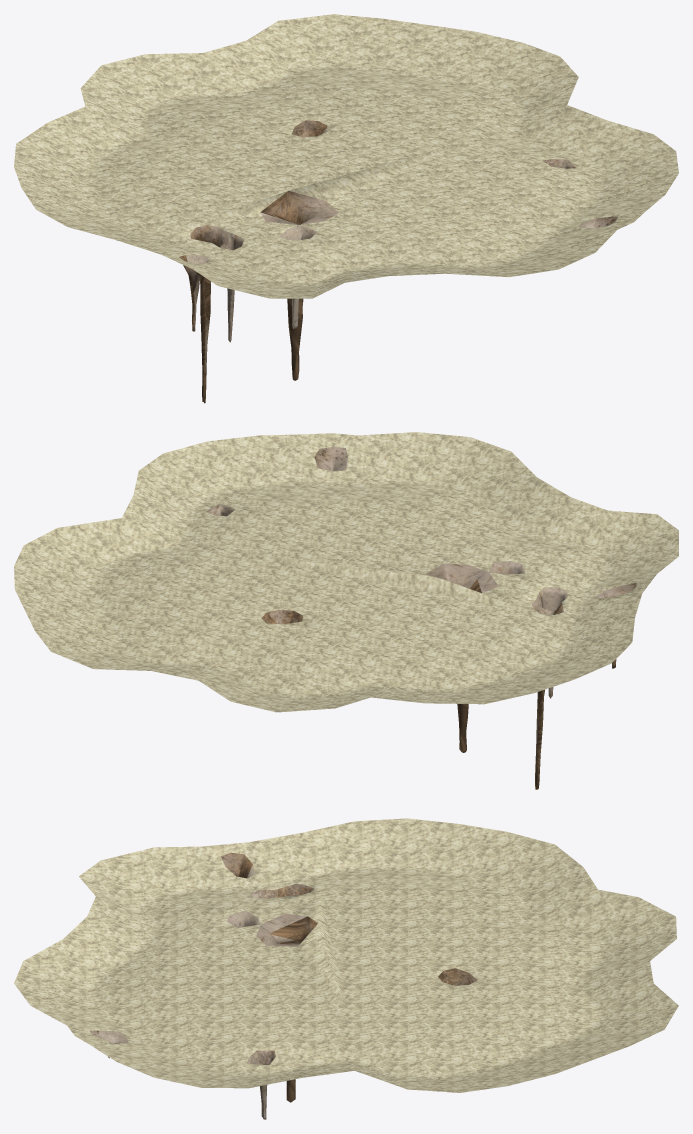
File: LimestoneCave_Ceiling.fbx
3 views of the same model, one above another, from view 1: azimuth 30°, elevation 25°; view 2: azimuth 150°, elevation 25°; view 3: azimuth 270°, elevation 25° (orthographic). The views are drawn at different scales.
Visible parts, largest first — view 1: LimestoneCave_Ceiling_1; view 2: LimestoneCave_Ceiling_1; view 3: LimestoneCave_Ceiling_1.
Boxes of the visible parts, x1,y1,x2,y2 form: LimestoneCave_Ceiling_1: (14,14,678,403); LimestoneCave_Ceiling_1: (14,432,678,789); LimestoneCave_Ceiling_1: (14,818,678,1119).
Size of the model in its own units: 24.15 by 7.91 by 24.72.
